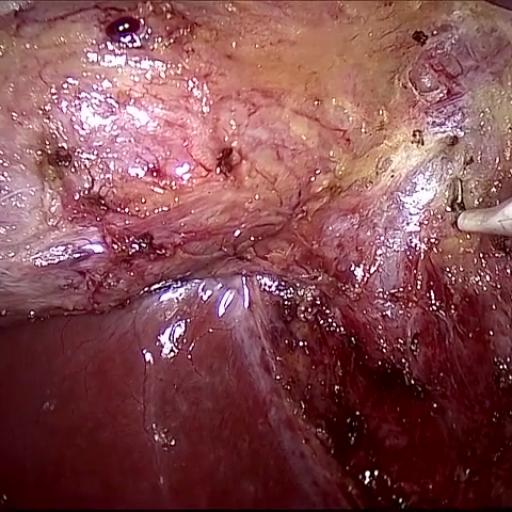Hook: (434, 137, 512, 269)
